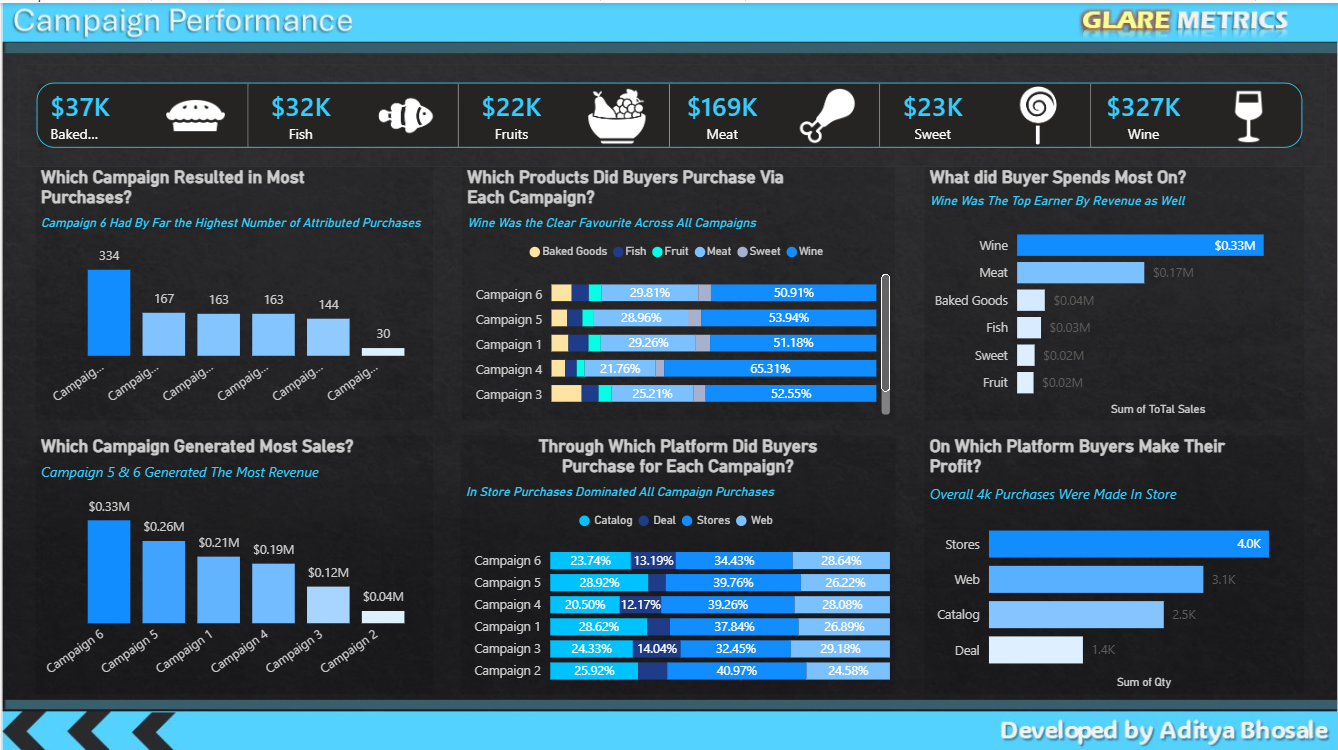

What the dashboard file says about the page in this screenshot:
{"tool":"powerbi","page":{"name":"Campaign Performance ","canvas":[1280,720],"ordinal":0},"visuals":[{"type":"clusteredColumnChart","title":"Which Campaign Resulted in Most Purchases?","fields":{"Category":["Campaign.Campaign"],"Y":["Sum(Campaign.Accepted_ind)"]},"box":[32.1,157.1,381,242.9],"z":0},{"type":"clusteredColumnChart","title":"Which Campaign Generated Most Sales?","fields":{"Category":["Campaign.Campaign"],"Y":["Sum(Products.ToTal Sales)"]},"box":[32.1,414.3,381,247.6],"z":1000},{"type":"hundredPercentStackedBarChart","title":"Which Products Did Buyers Purchase Via Each Campaign?","fields":{"Category":["Campaign.Campaign"],"Series":["Products.Product"],"Y":["Sum(Products.ToTal Sales)"]},"box":[440.5,157.1,415.5,242.9],"z":2000},{"type":"clusteredBarChart","title":"What did Buyer Spends Most On?","fields":{"Category":["Products.Product"],"Y":["Sum(Products.ToTal Sales)"]},"box":[884.5,157.1,364.3,242.9],"z":3000},{"type":"hundredPercentStackedBarChart","title":"Through Which Platform Did Buyers Purchase for Each Campaign?","fields":{"Category":["Campaign.Campaign"],"Series":["Platform.Platform"],"Y":["Sum(Platform.Qty)"]},"box":[439.3,414.3,416.7,247.6],"z":4000},{"type":"clusteredBarChart","title":"On Which Platform Buyers Make Their Profit?","fields":{"Category":["Platform.Platform"],"Y":["Sum(Platform.Qty)"]},"box":[884.5,414.3,364.3,247.6],"z":5000},{"type":"cardVisual","fields":{"Data":["Sum(Marketing Data.Amount_Baked_Products)","Sum(Marketing Data.Amount_Fish_Products)","Sum(Marketing Data.Amount_Fruit_Products)","Sum(Marketing Data.Amount_Meat_products)","Sum(Marketing Data.Amount_Sweet_Products)","Sum(Marketing Data.Amount_Wine_products)"]},"box":[15.6,58.7,1253.6,98.3],"z":6000}]}

Visuals, with their boxes in screenshot pixels (x1, y1, x2, y2), scaled from the page's 1280x720 canvas onto the 1338x750 screenshot:
"Which Campaign Resulted in Most Purchases?" clusteredColumnChart: crop(34, 164, 432, 417)
"Which Campaign Generated Most Sales?" clusteredColumnChart: crop(34, 432, 432, 689)
"Which Products Did Buyers Purchase Via Each Campaign?" hundredPercentStackedBarChart: crop(460, 164, 895, 417)
"What did Buyer Spends Most On?" clusteredBarChart: crop(925, 164, 1305, 417)
"Through Which Platform Did Buyers Purchase for Each Campaign?" hundredPercentStackedBarChart: crop(459, 432, 895, 689)
"On Which Platform Buyers Make Their Profit?" clusteredBarChart: crop(925, 432, 1305, 689)
cardVisual - Sum(Marketing Data.Amount_Baked_Products) x Sum(Marketing Data.Amount_Fish_Products): crop(16, 61, 1327, 164)
